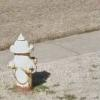Hydrant: (6, 31, 48, 98)
